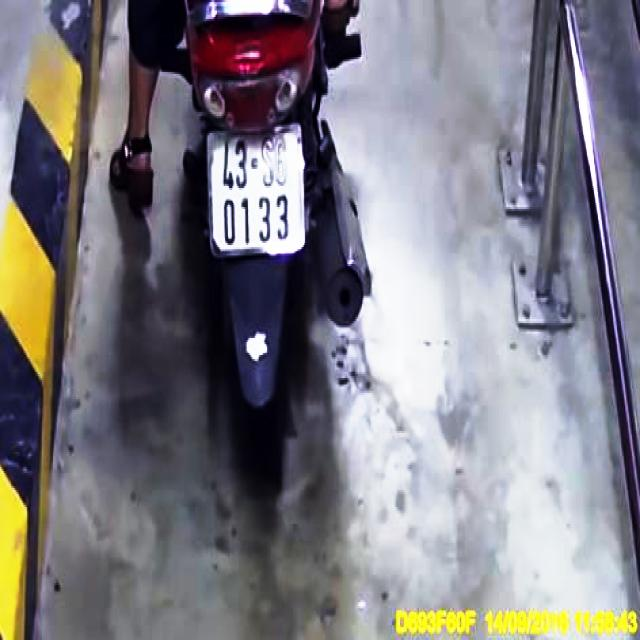license_plate: (209, 126, 306, 256)
